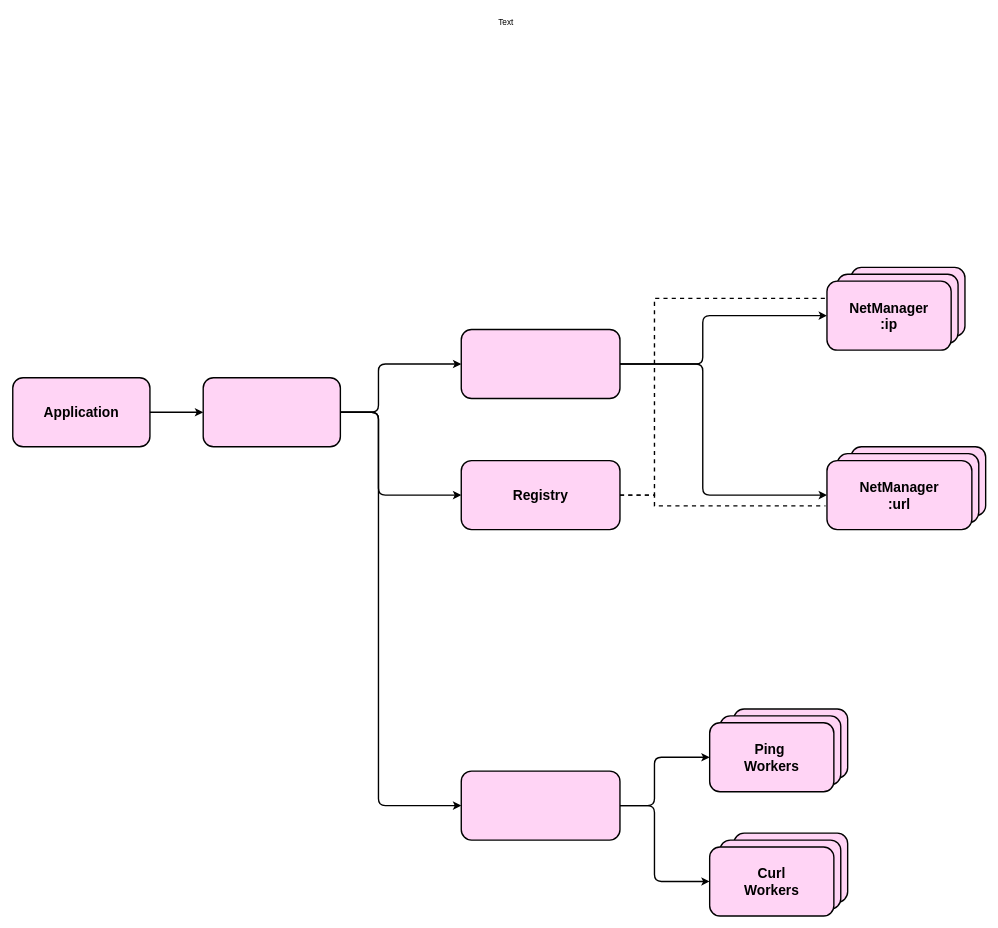
Some shapes in this 998 by 928 pixel diagram are drawn without their labels. The shapes that lost their labels are listed below. From the top down, each one's centre as x and y in pixels, then its label:
At point (540, 364): "Dynamic Supervisor".
At point (271, 412): "Supervisor".
At point (540, 805): "Task Supervisor".
